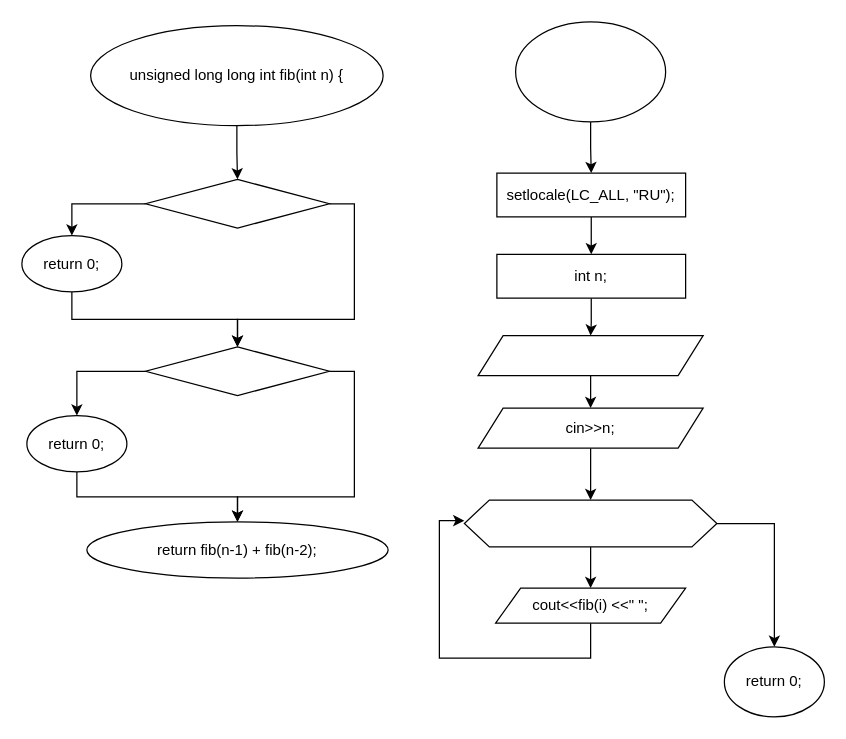
The diagram is 846 pixels wide and 739 high, and some of its shapes have lost their labels. Each missing label, with the centre of its shape:
cout<<"Введите n: ";: [590,355]
for (int i = 0; i < n; I++) {: [590,523]
if (n==0) {: [236,203]
if (n==1 || n == 2) {: [236,371]
int main() {: [590,71]
